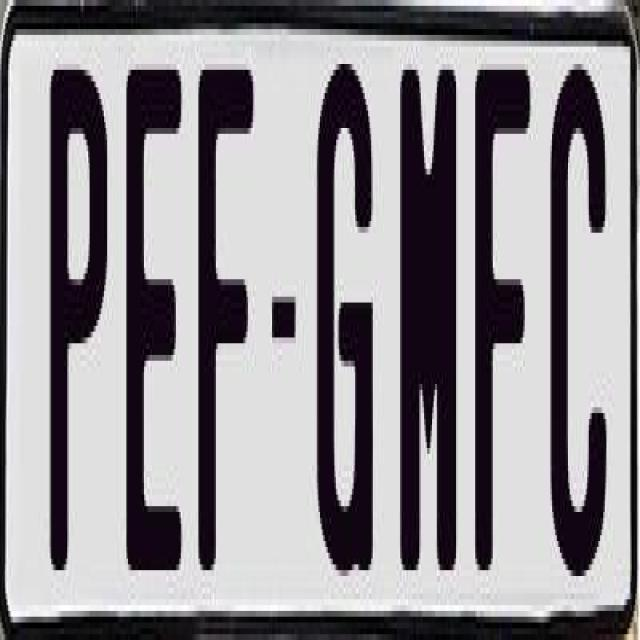C: (551, 47, 612, 559)
E: (126, 53, 184, 559)
F: (195, 70, 259, 582), (472, 70, 526, 588)
G: (314, 47, 370, 565)
M: (400, 58, 458, 570)
P: (47, 70, 111, 600)
